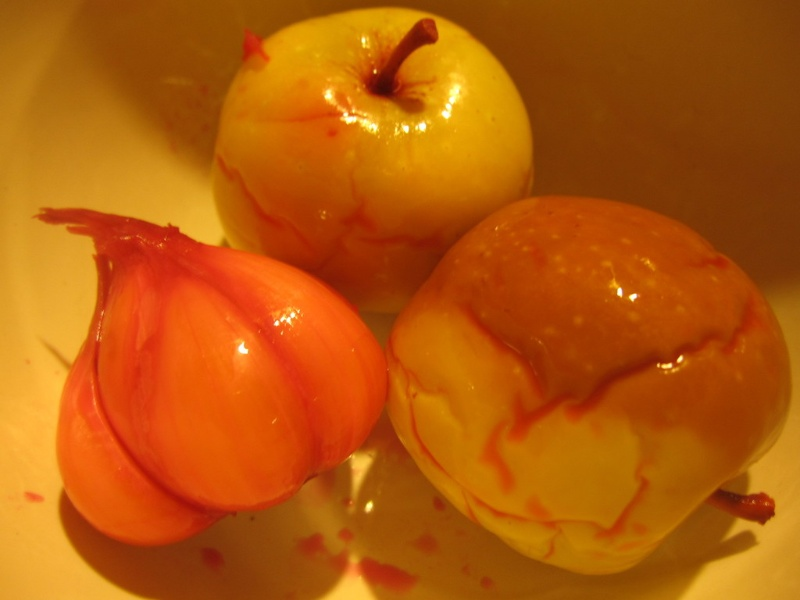apple: (393, 191, 794, 580), (190, 4, 531, 254)
